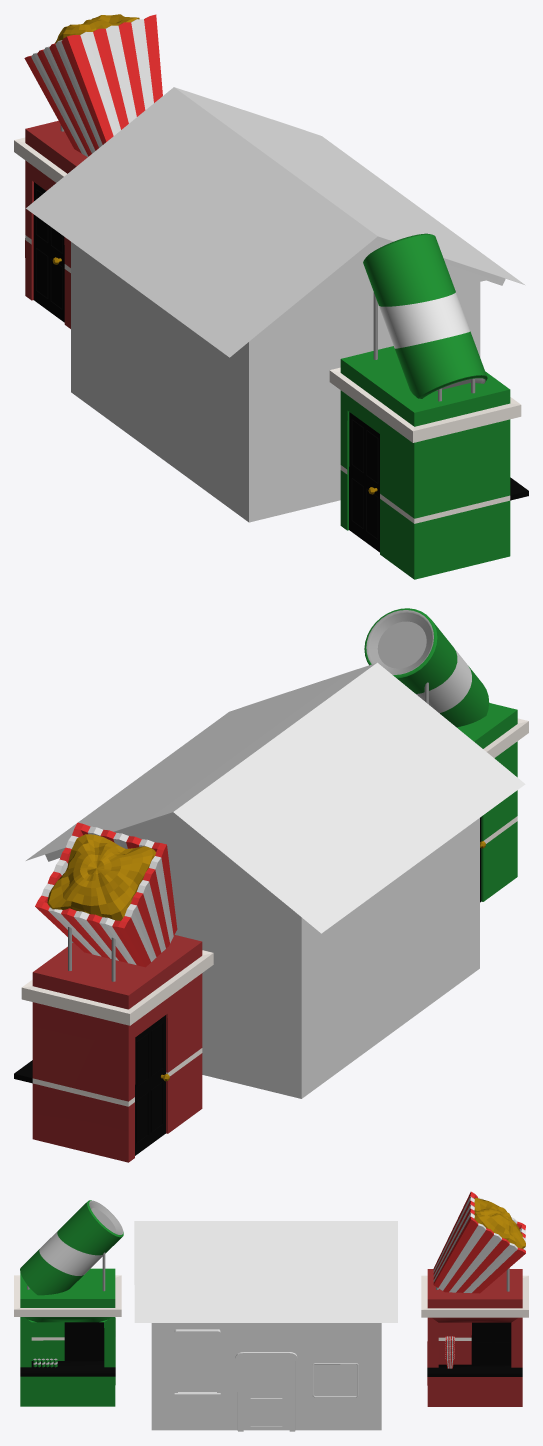
Rendered from Sıctık.fbx.
3 renders of one model, top to bottom at view 1: azimuth 30°, elevation 25°; view 2: azimuth 150°, elevation 25°; view 3: azimuth 270°, elevation 25°, orthographic. The views are drawn at different scales.
Visible parts, largest first — view 1: Cube.001, Cylinder.017, Sphere; view 2: Cube.001, Sphere, Cylinder.017; view 3: Cube.001, Sphere, Cylinder.017.
Part boxes in pixels (box(x1,y1,x2,y2)): Cube.001: box(26, 87, 525, 522); Cylinder.017: box(329, 233, 528, 579); Sphere: box(14, 14, 162, 328); Cube.001: box(26, 662, 525, 1098); Sphere: box(14, 822, 213, 1162); Cylinder.017: box(364, 608, 528, 902); Cube.001: box(134, 1221, 397, 1431); Sphere: box(421, 1191, 528, 1406); Cylinder.017: box(14, 1200, 123, 1406).
Size of the model in its own units: 768 by 730 by 1791.
